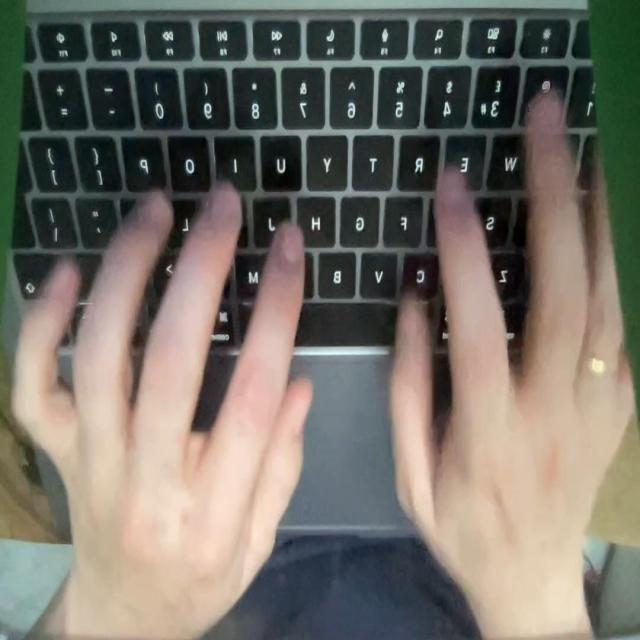keyboard-with-hands: (1, 0, 623, 536)
